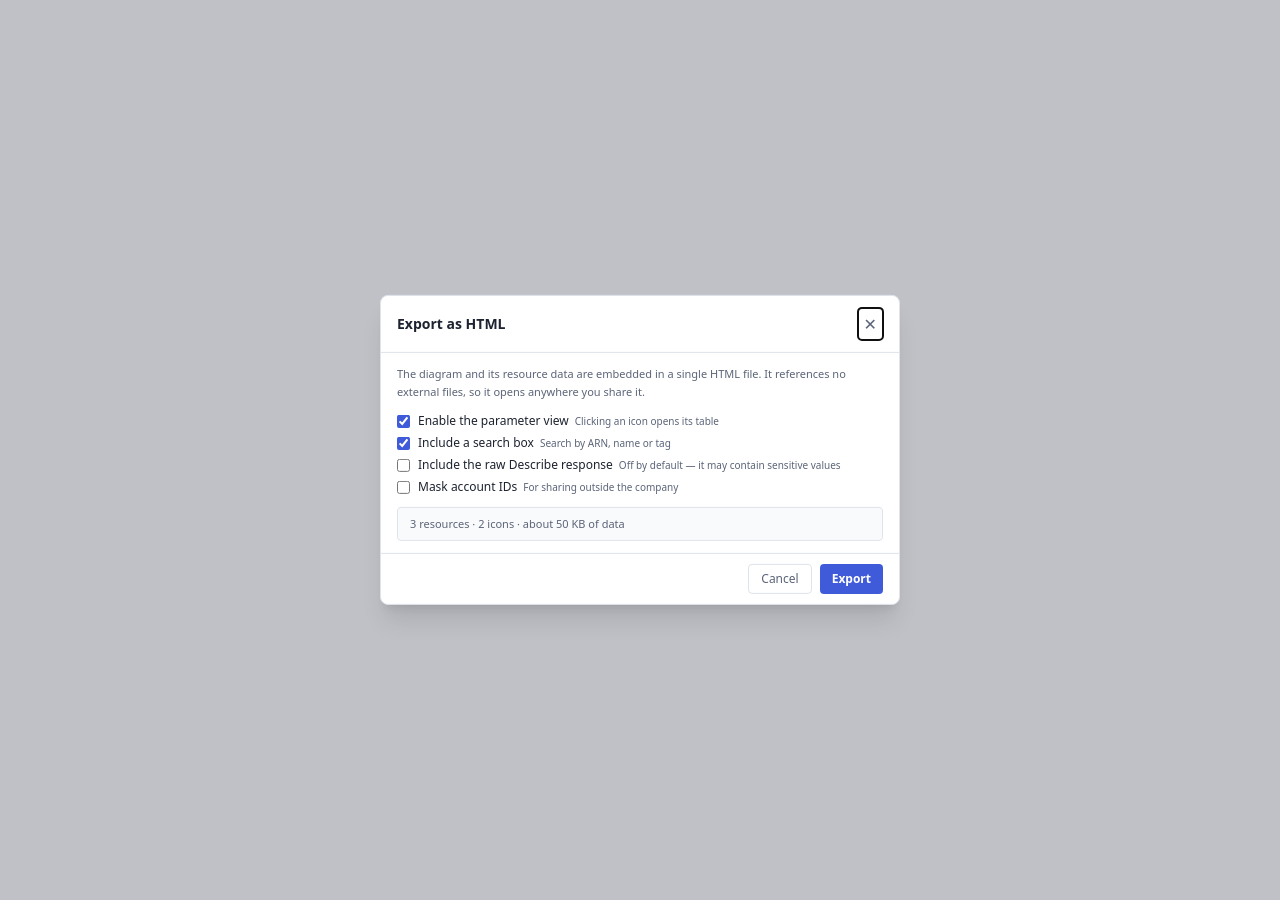
what masking covers › is spelled out only while masking is on
Click the checkbox labelled "Mask account IDs": click(404, 487) [397,481,410,494]
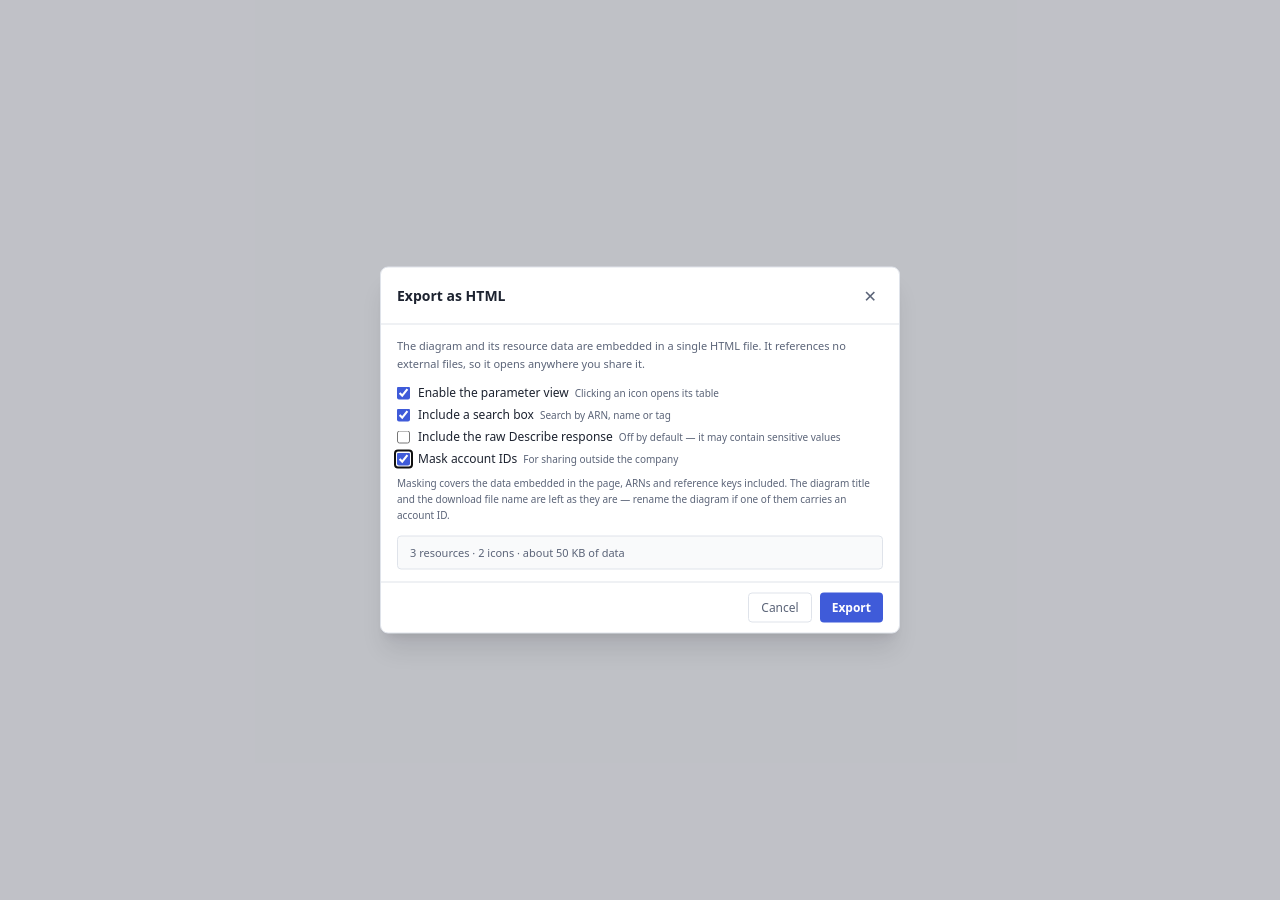
Expected: the text with test id "mask-scope" shows "title and the download file name are left", [397,475,870,522]
